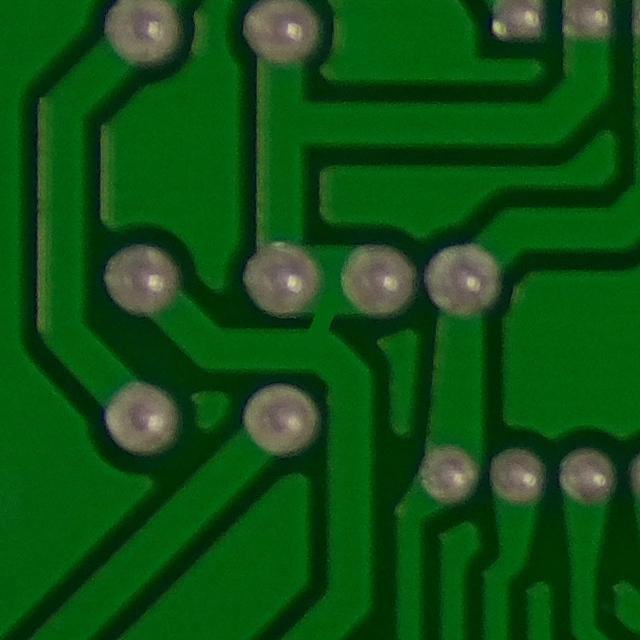short: (277, 275, 364, 365)
